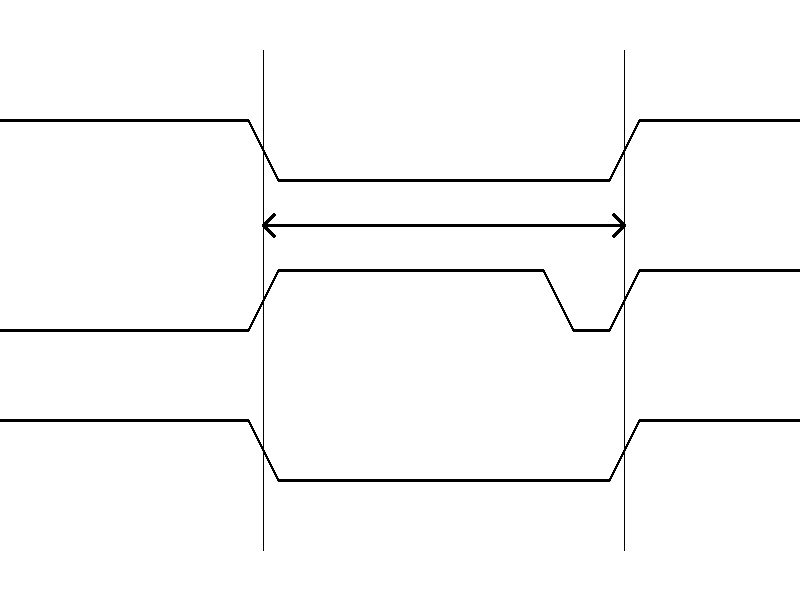double_arrow: (263, 210, 624, 240)
